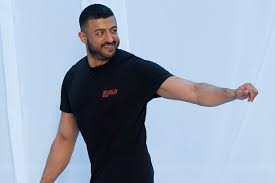middle_eastern_male: (82, 15, 127, 57)
